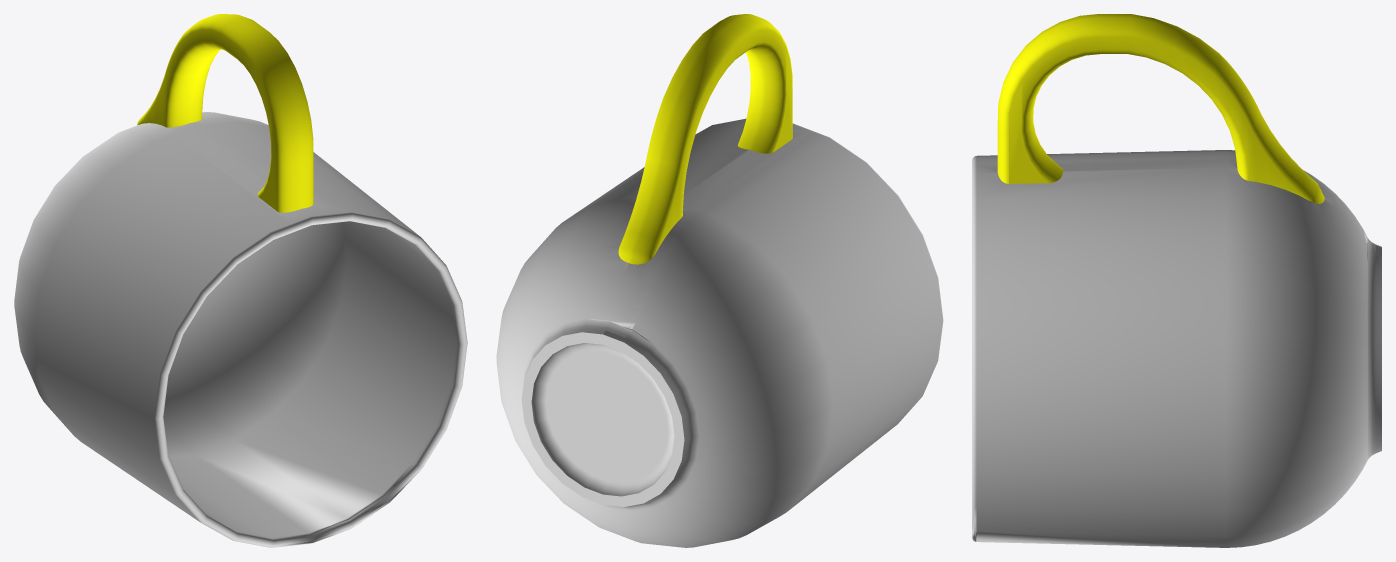
The model's file is model_scale.obj.
3 renders of one model, left to right at view 1: azimuth 30°, elevation 25°; view 2: azimuth 150°, elevation 25°; view 3: azimuth 270°, elevation 25°, orthographic. The views are drawn at different scales.
Visible parts, largest first — view 1: mesh10_mesh10-geometry, mesh1_mesh1-geometry; view 2: mesh10_mesh10-geometry, mesh1_mesh1-geometry; view 3: mesh10_mesh10-geometry, mesh1_mesh1-geometry.
Part boxes in pixels (x1,y1,x2,y2): mesh10_mesh10-geometry: [14, 112, 467, 547]; mesh1_mesh1-geometry: [137, 14, 313, 212]; mesh10_mesh10-geometry: [496, 118, 943, 547]; mesh1_mesh1-geometry: [618, 14, 792, 264]; mesh10_mesh10-geometry: [972, 150, 1381, 547]; mesh1_mesh1-geometry: [997, 14, 1324, 203].
Size of the model in its own units: 0.0967 by 0.1369 by 0.0992.
